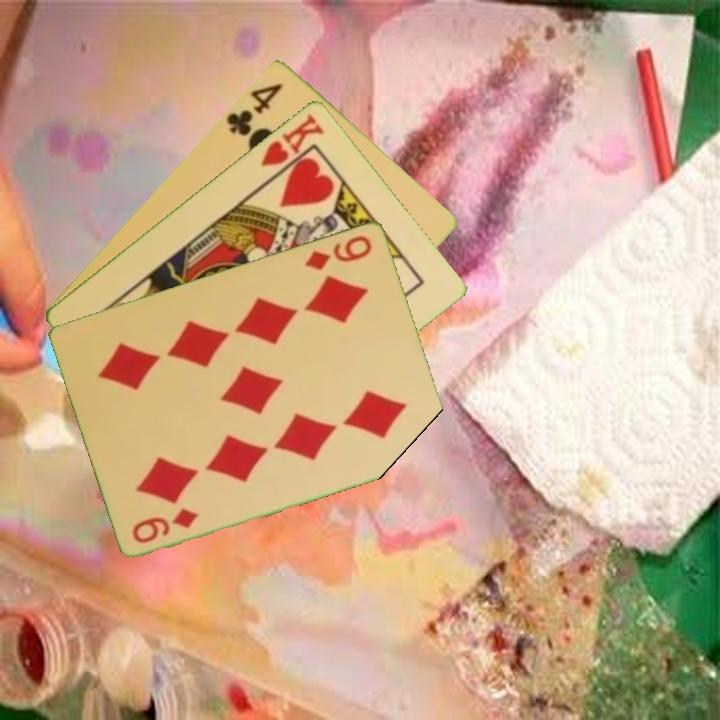4c: (223, 79, 286, 139)
9d: (302, 231, 375, 273), (128, 504, 201, 546)
Kh: (257, 109, 327, 183)
